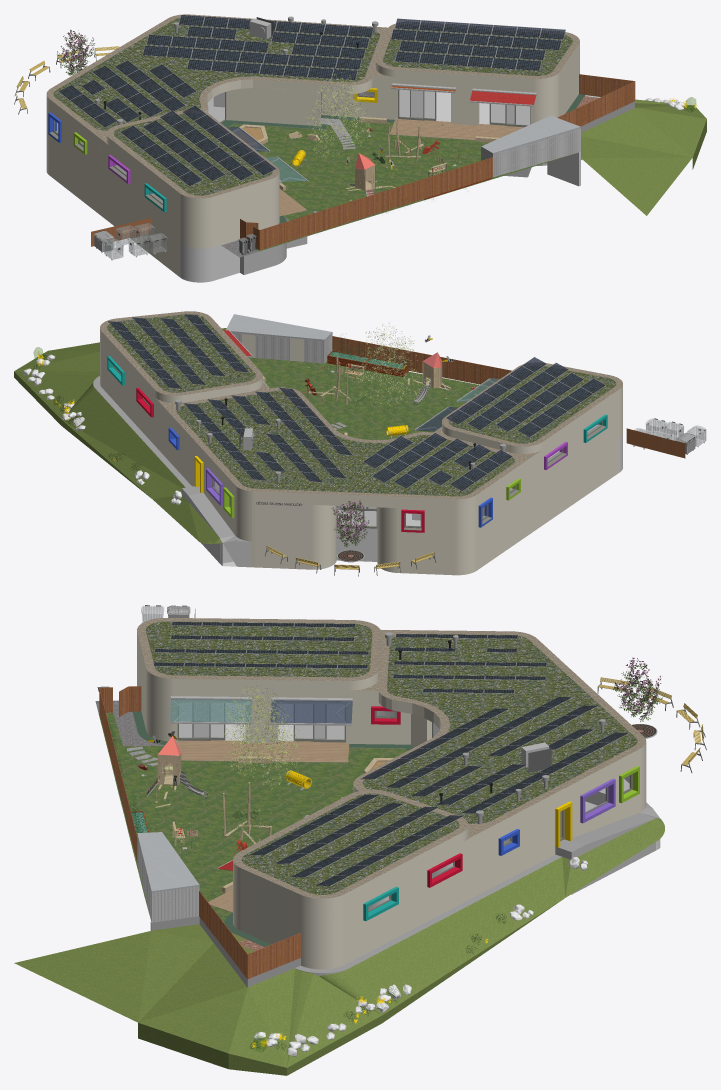
The model's file is hustopece.glb.
3 renders of one model, top to bottom at view 1: azimuth 30°, elevation 25°; view 2: azimuth 150°, elevation 25°; view 3: azimuth 270°, elevation 25°, orthographic. The views are drawn at different scales.
Parts seen in each view (by area): view 1: hustopece_architecture; view 2: hustopece_architecture; view 3: hustopece_architecture.
Boxes of the visible parts, x1,y1,x2,y2 form: hustopece_architecture: [14, 14, 706, 282]; hustopece_architecture: [14, 311, 706, 576]; hustopece_architecture: [14, 605, 706, 1075].
Bounding box in the file's own units: 53.34 × 10.47 × 39.83.
112 materials, 43 textured.
